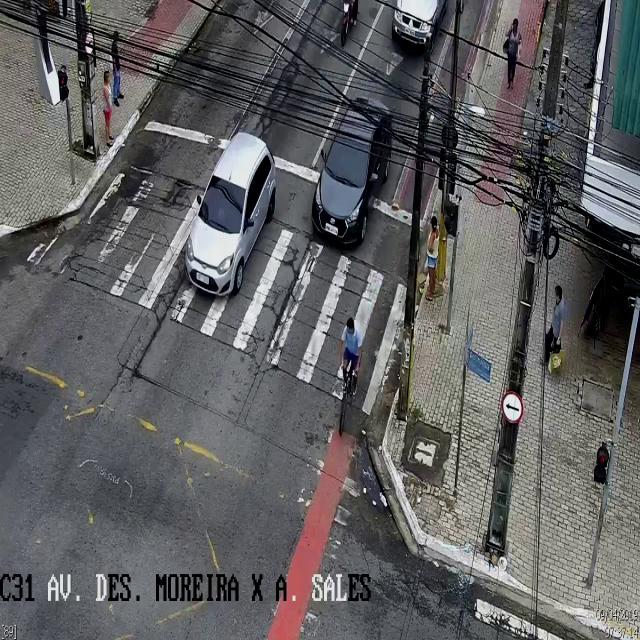Car: (184, 130, 276, 298), (311, 97, 391, 247), (392, 1, 448, 48)
Motorcycle: (335, 0, 363, 51)
